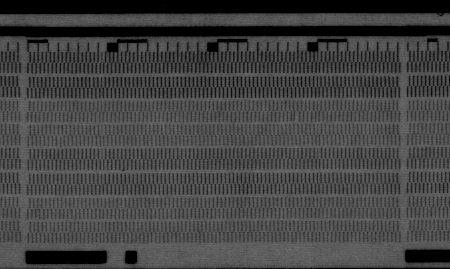Oblique printing: (289, 110, 301, 122)
